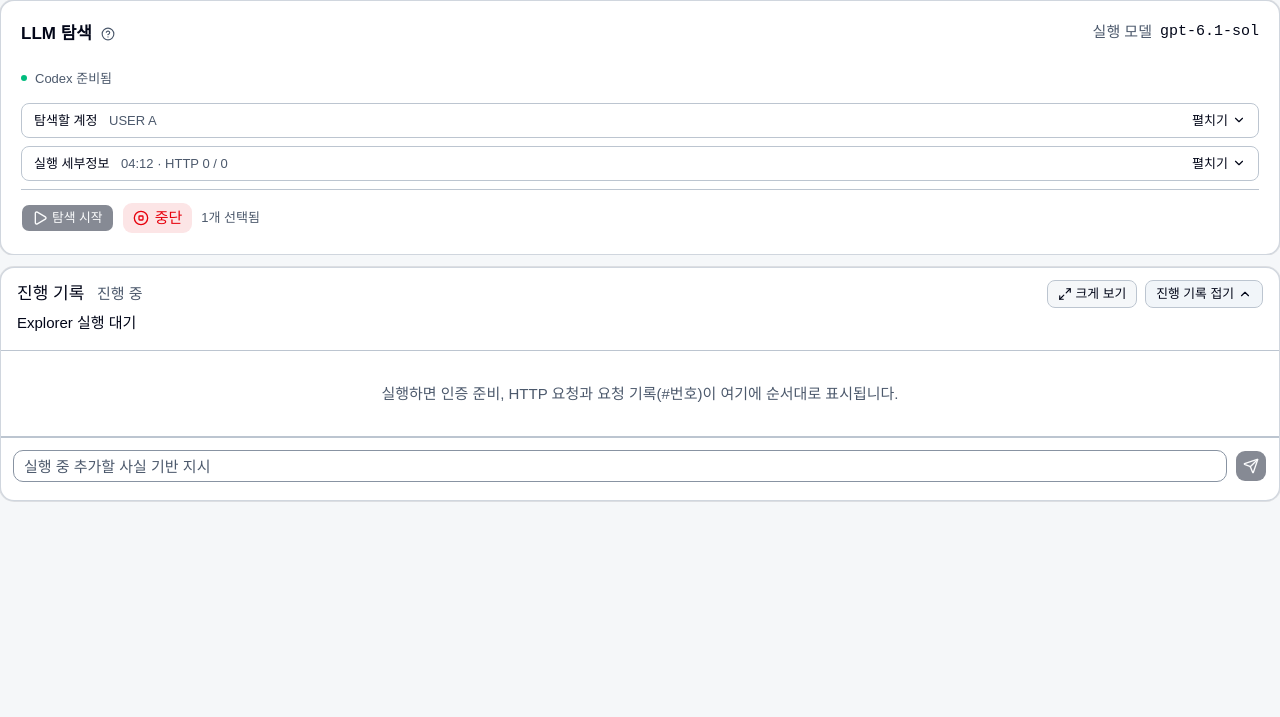
Test: shows the browser budget as a ceiling and keeps the stop switch visible while a window is driven
The image size is (1280, 717).
Click the button "실행 세부정보 04:12 · HTTP 0 / 0 펼치기": click(73, 163) top-left (22, 147), bottom-right (1258, 180)
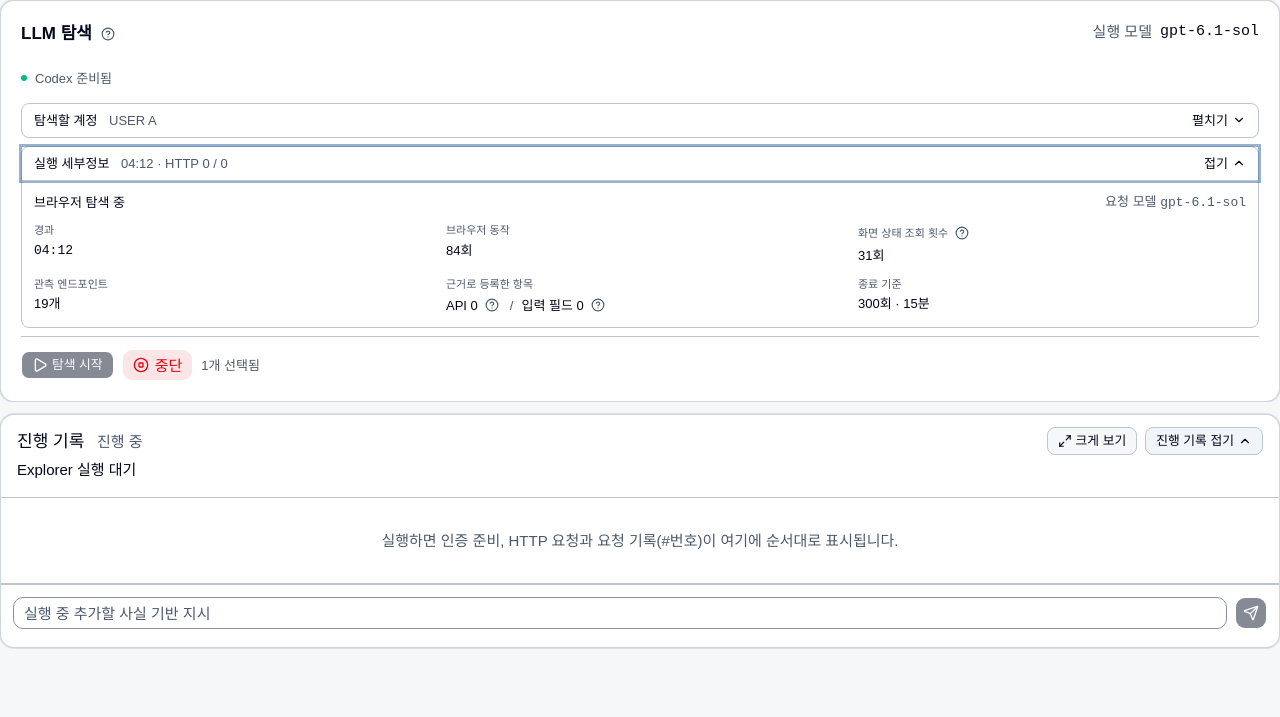
Click the button "탐색할 계정 USER A 펼치기": click(68, 120) top-left (22, 104), bottom-right (1258, 137)
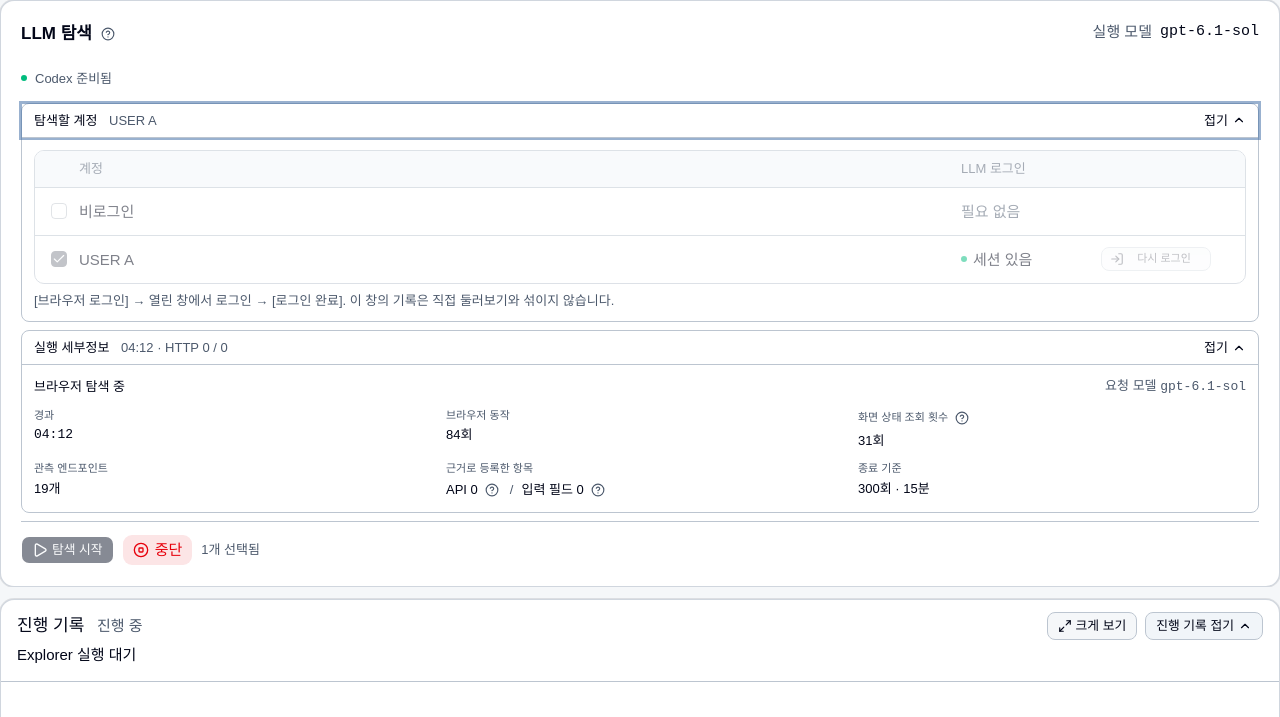
Result: the text "브라우저 탐색 중" is shown at top-left (34, 378), bottom-right (125, 395)
Result: the text "04:12" is shown at top-left (34, 428), bottom-right (73, 442)
Result: the text "300회 · 15분" is shown at top-left (858, 481), bottom-right (930, 496)
Hover over the button named "화면 상태 조회 횟수 도움말": (962, 418) top-left (952, 408), bottom-right (972, 428)
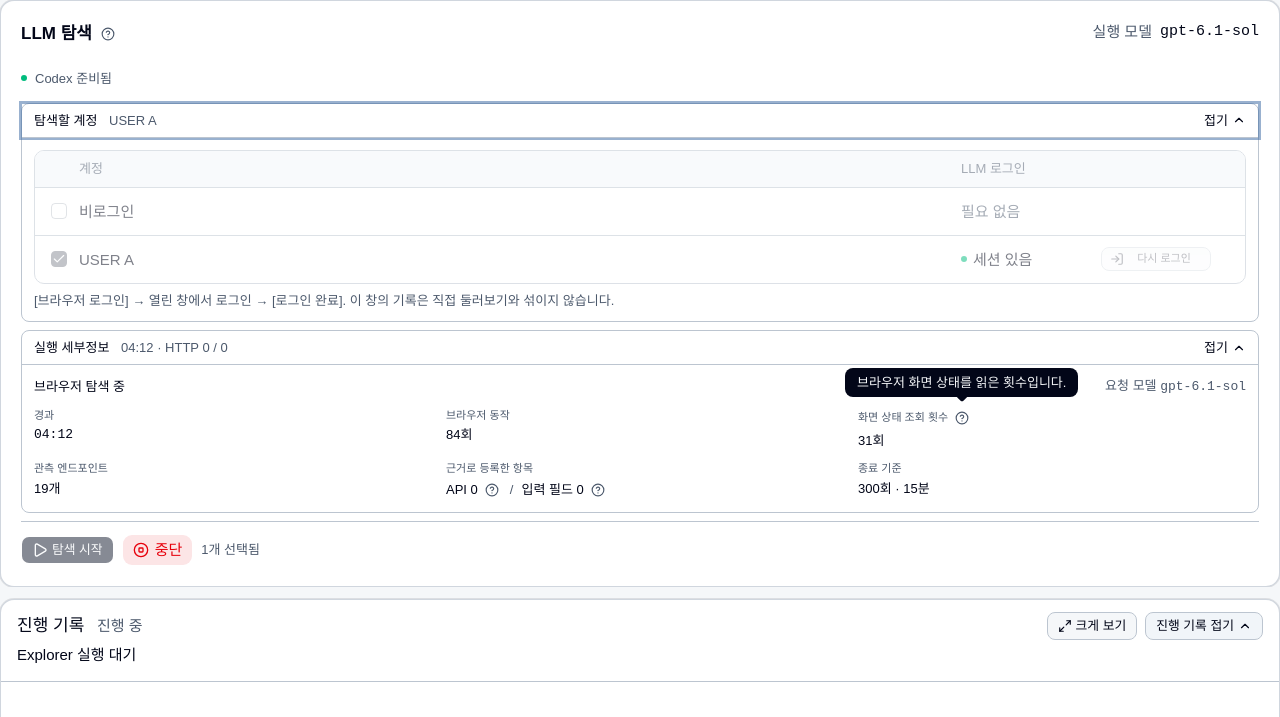
Result: the checkbox named "USER A" is checked at top-left (51, 251), bottom-right (67, 267)
Result: the checkbox named "비로그인" is not checked at top-left (51, 203), bottom-right (67, 219)
Result: the tooltip reads "브라우저 화면 상태를 읽은 횟수입니다." at top-left (857, 375), bottom-right (1066, 390)
